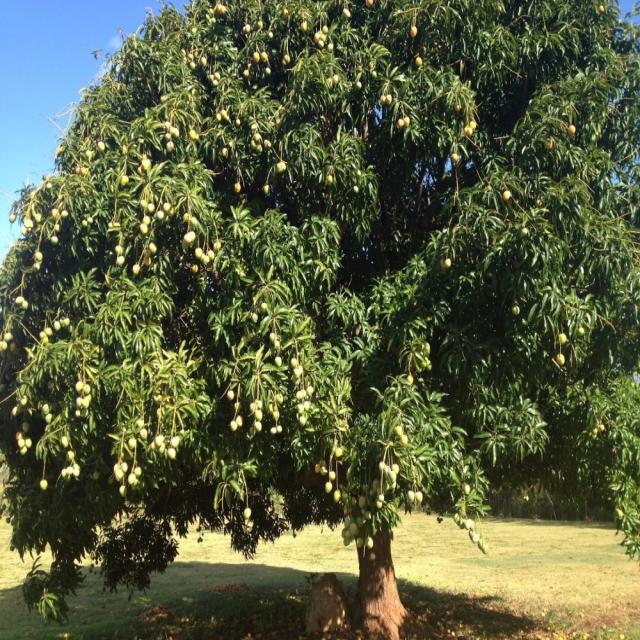Mango-Tree: (5, 2, 638, 590)
